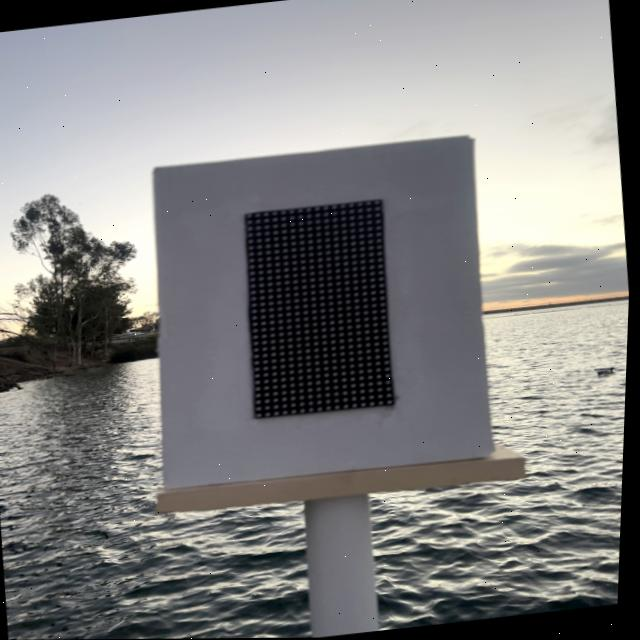led: (183, 173, 389, 435)
